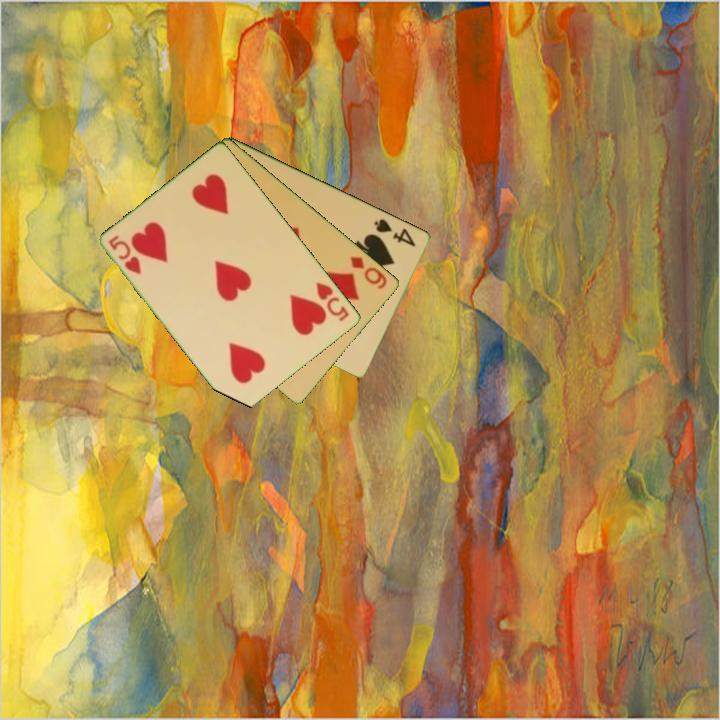4s: (371, 215, 419, 250)
5h: (312, 278, 353, 324), (105, 232, 145, 277)
6d: (347, 252, 390, 292)
